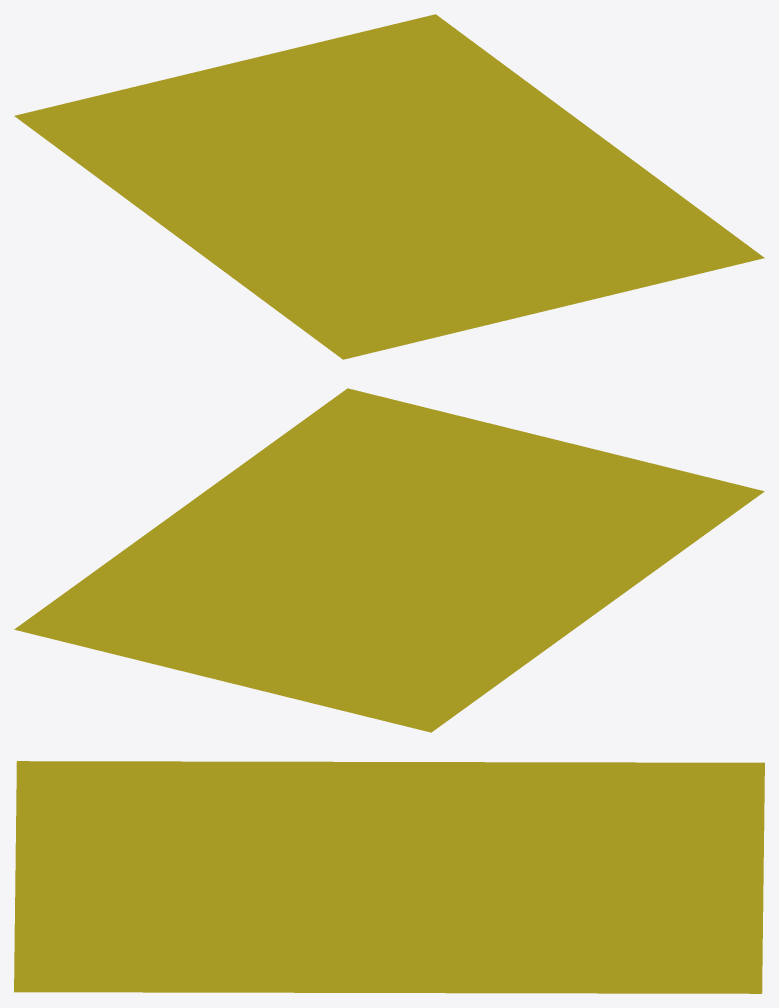
Rendered from PostIt1.fbx.
3 renders of one model, top to bottom at view 1: azimuth 30°, elevation 25°; view 2: azimuth 150°, elevation 25°; view 3: azimuth 270°, elevation 25°, orthographic. The views are drawn at different scales.
Parts seen in each view (by area): view 1: Plane.001; view 2: Plane.001; view 3: Plane.001.
Part boxes in pixels (x1,y1,x2,y2): Plane.001: [14, 14, 764, 359]; Plane.001: [14, 388, 764, 732]; Plane.001: [14, 761, 764, 993].
Size of the model in its own units: 49.67 by 1.1e-05 by 67.74.
